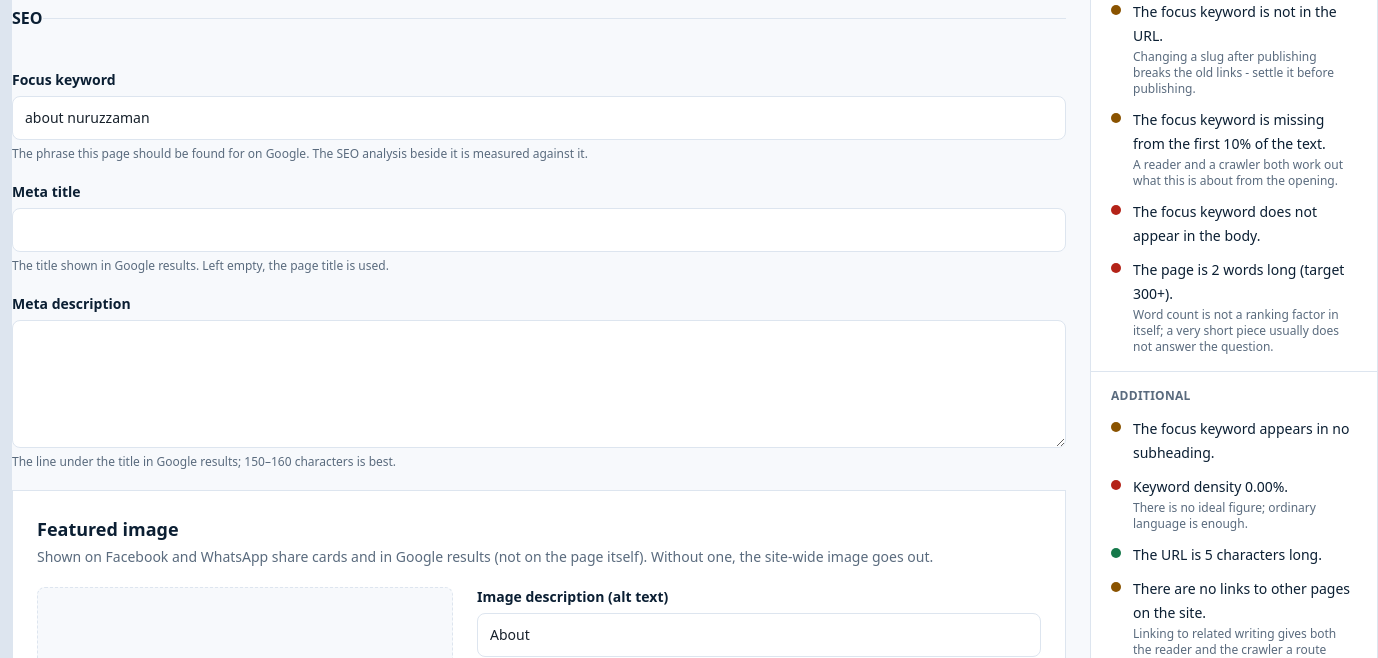
Test: PageEditor › shows the SEO analysis and a Google preview, live as the page is written
The width and height of the screenshot is (1378, 658).
(page scrolled)
Type "Who Engr. Nuruzzaman is and what he designs." into the text box labelled "Meta description". click: (539, 384)
box: top-left (12, 320), bottom-right (1066, 448)
(page scrolled)
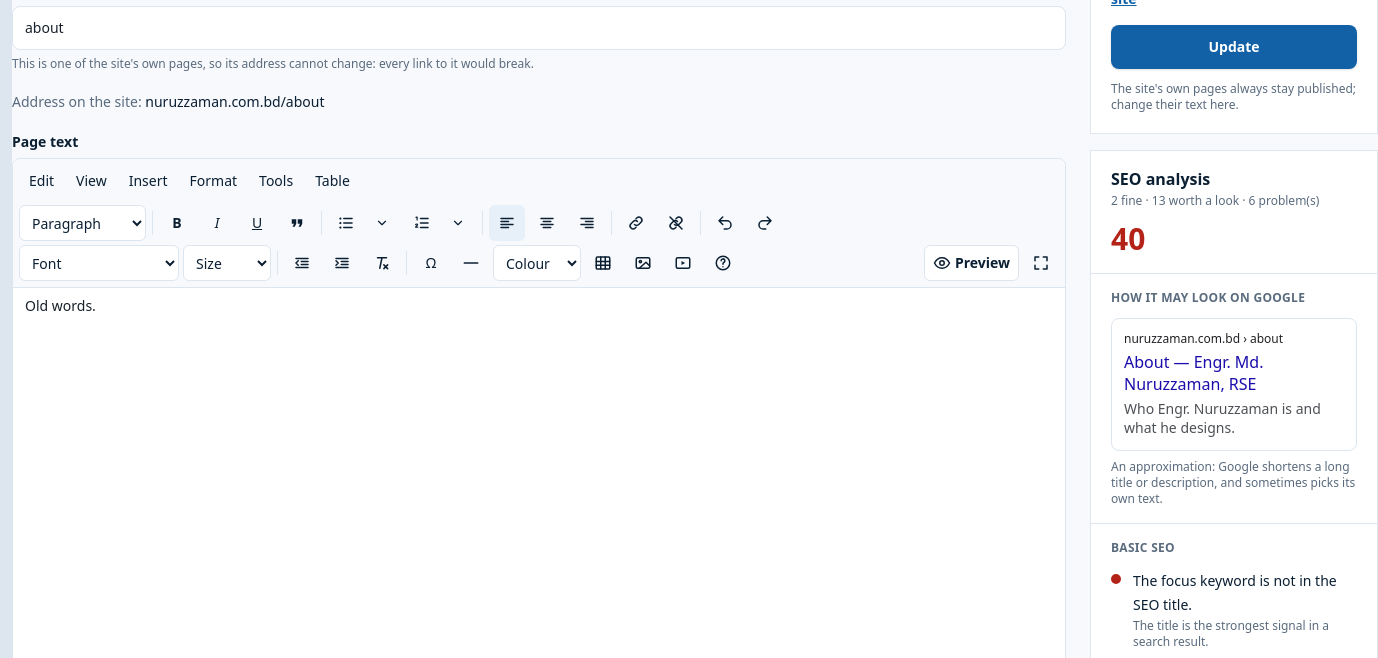
Check: the element with test id "search-preview" shows "Who Engr. Nuruzzaman is and what he designs.", box top-left (1124, 399), bottom-right (1321, 437)
